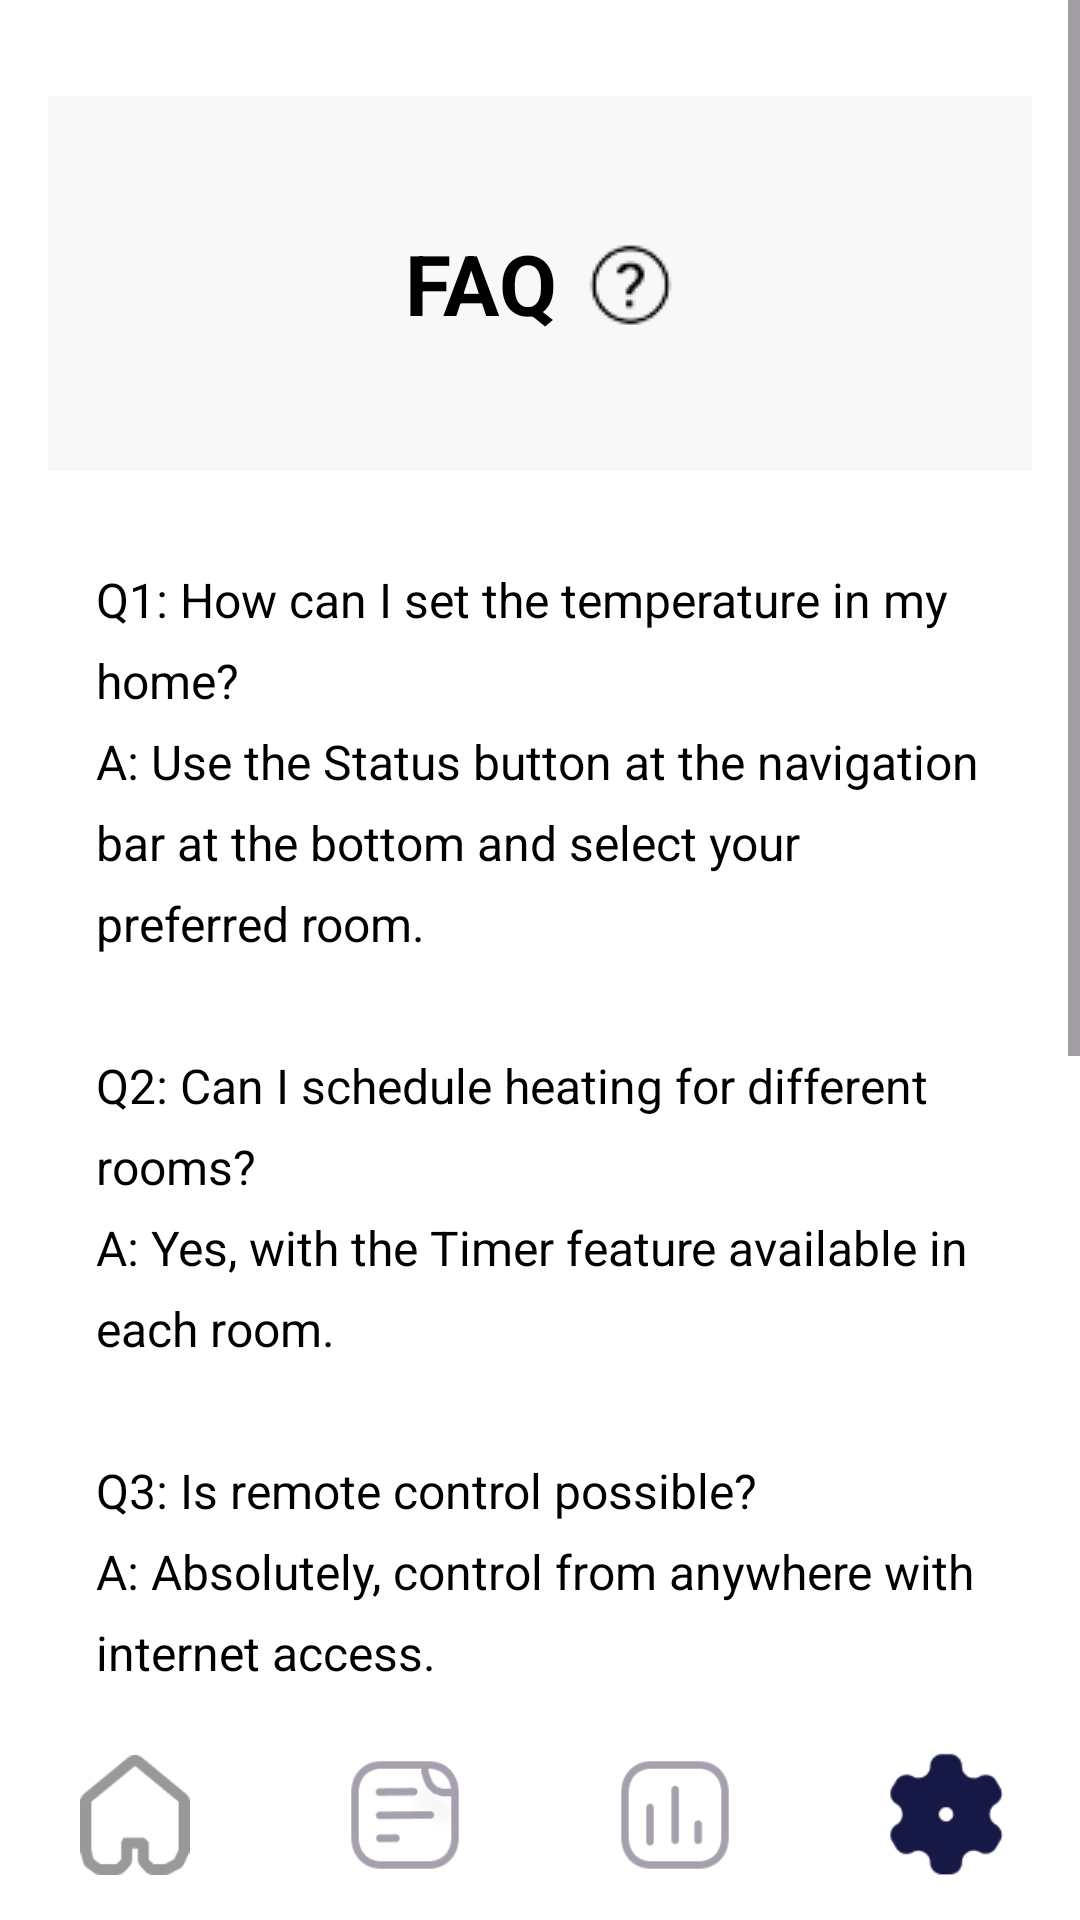

Point at icon controls on the screen. Image size 1080px x 1920px, points as [x,y].
settings: [946,1814]
